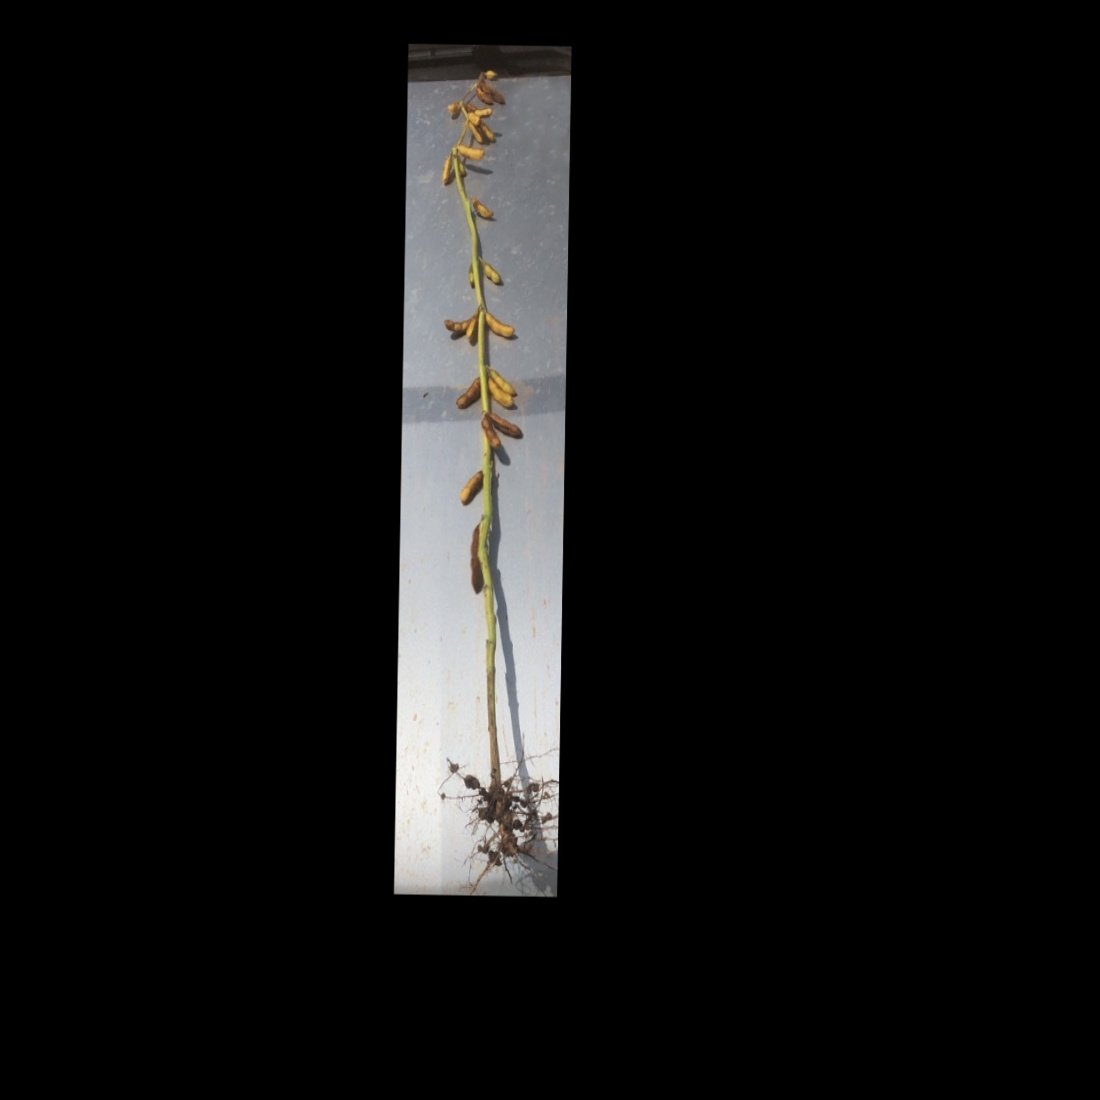pod: (488, 404, 529, 439), (467, 517, 486, 595), (453, 373, 484, 411), (482, 312, 516, 341), (460, 468, 486, 506), (477, 416, 501, 451), (457, 140, 487, 162), (480, 261, 505, 285), (469, 196, 496, 218), (440, 150, 453, 188), (443, 96, 463, 119), (473, 104, 495, 118), (483, 67, 501, 84), (466, 257, 475, 289)
soy: (406, 51, 561, 880)
